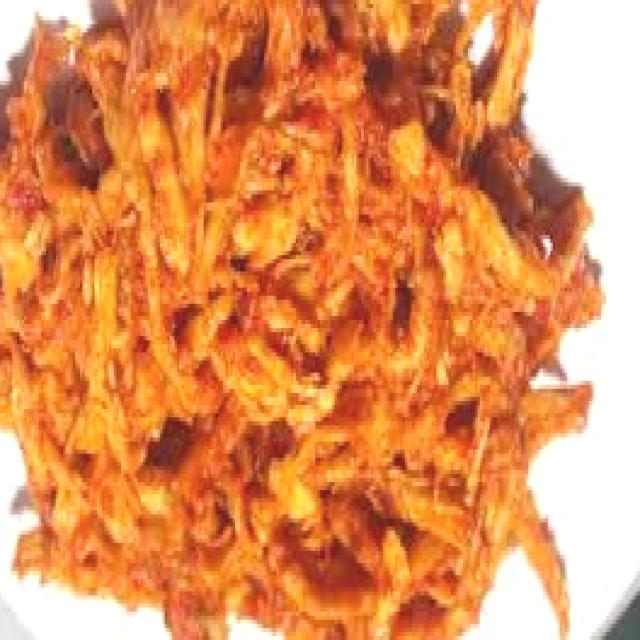ayam_suwir: (0, 0, 587, 640)
